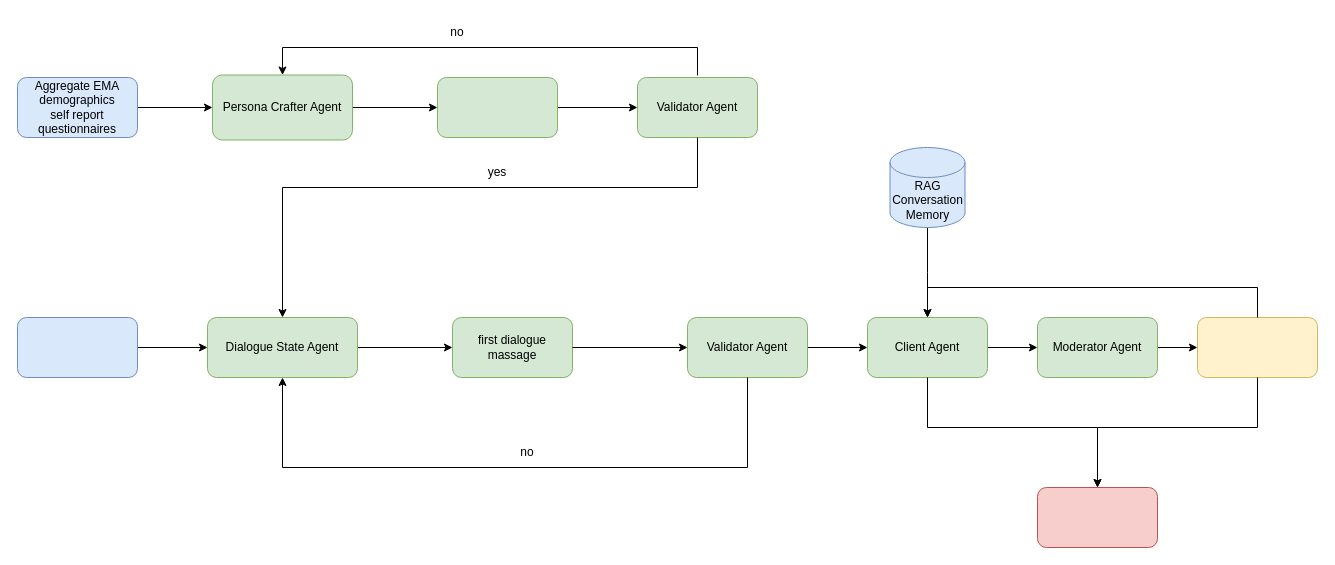
This 1335x565 diagram has some shape labels left out. The shapes that lost their labels are listed below. From the top down, each one's centre as x and y in pixels, then its label:
[497,107]: persona discription (vignette)
[77,347]: Conversation EMA
[1257,347]: PTSD Bot
[1097,517]: Conversation Analyst Agent
